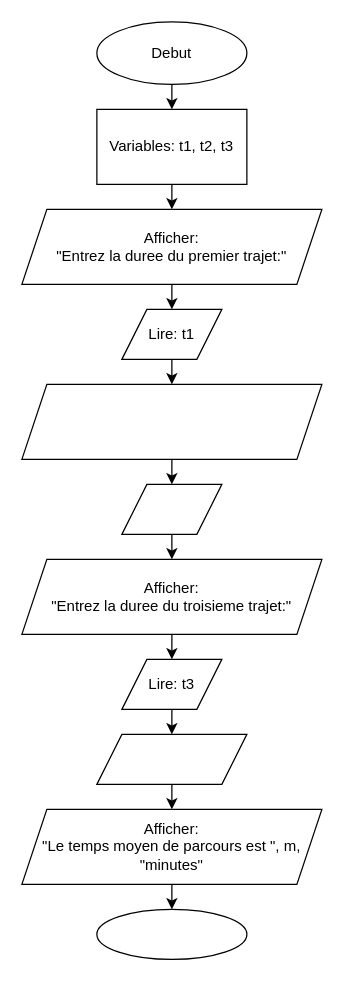
Image size: 344x981. Some labels were removed from this diagram. The box of each missing label's shape, as (x1, y1, x2, y2) in pixels:
Afficher: "Entrez la duree du second trajet:": (21, 383, 322, 459)
Fin: (96, 908, 247, 959)
Lire: t2: (121, 483, 222, 534)
m = t1 + t2 + t3: (96, 733, 247, 784)
